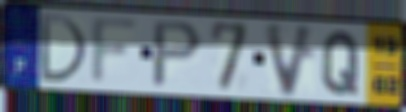7: (208, 19, 252, 94)
D: (37, 11, 90, 86)
F: (87, 14, 143, 88)
P: (149, 19, 206, 90)
Q: (319, 28, 362, 97)
V: (262, 20, 319, 100)
